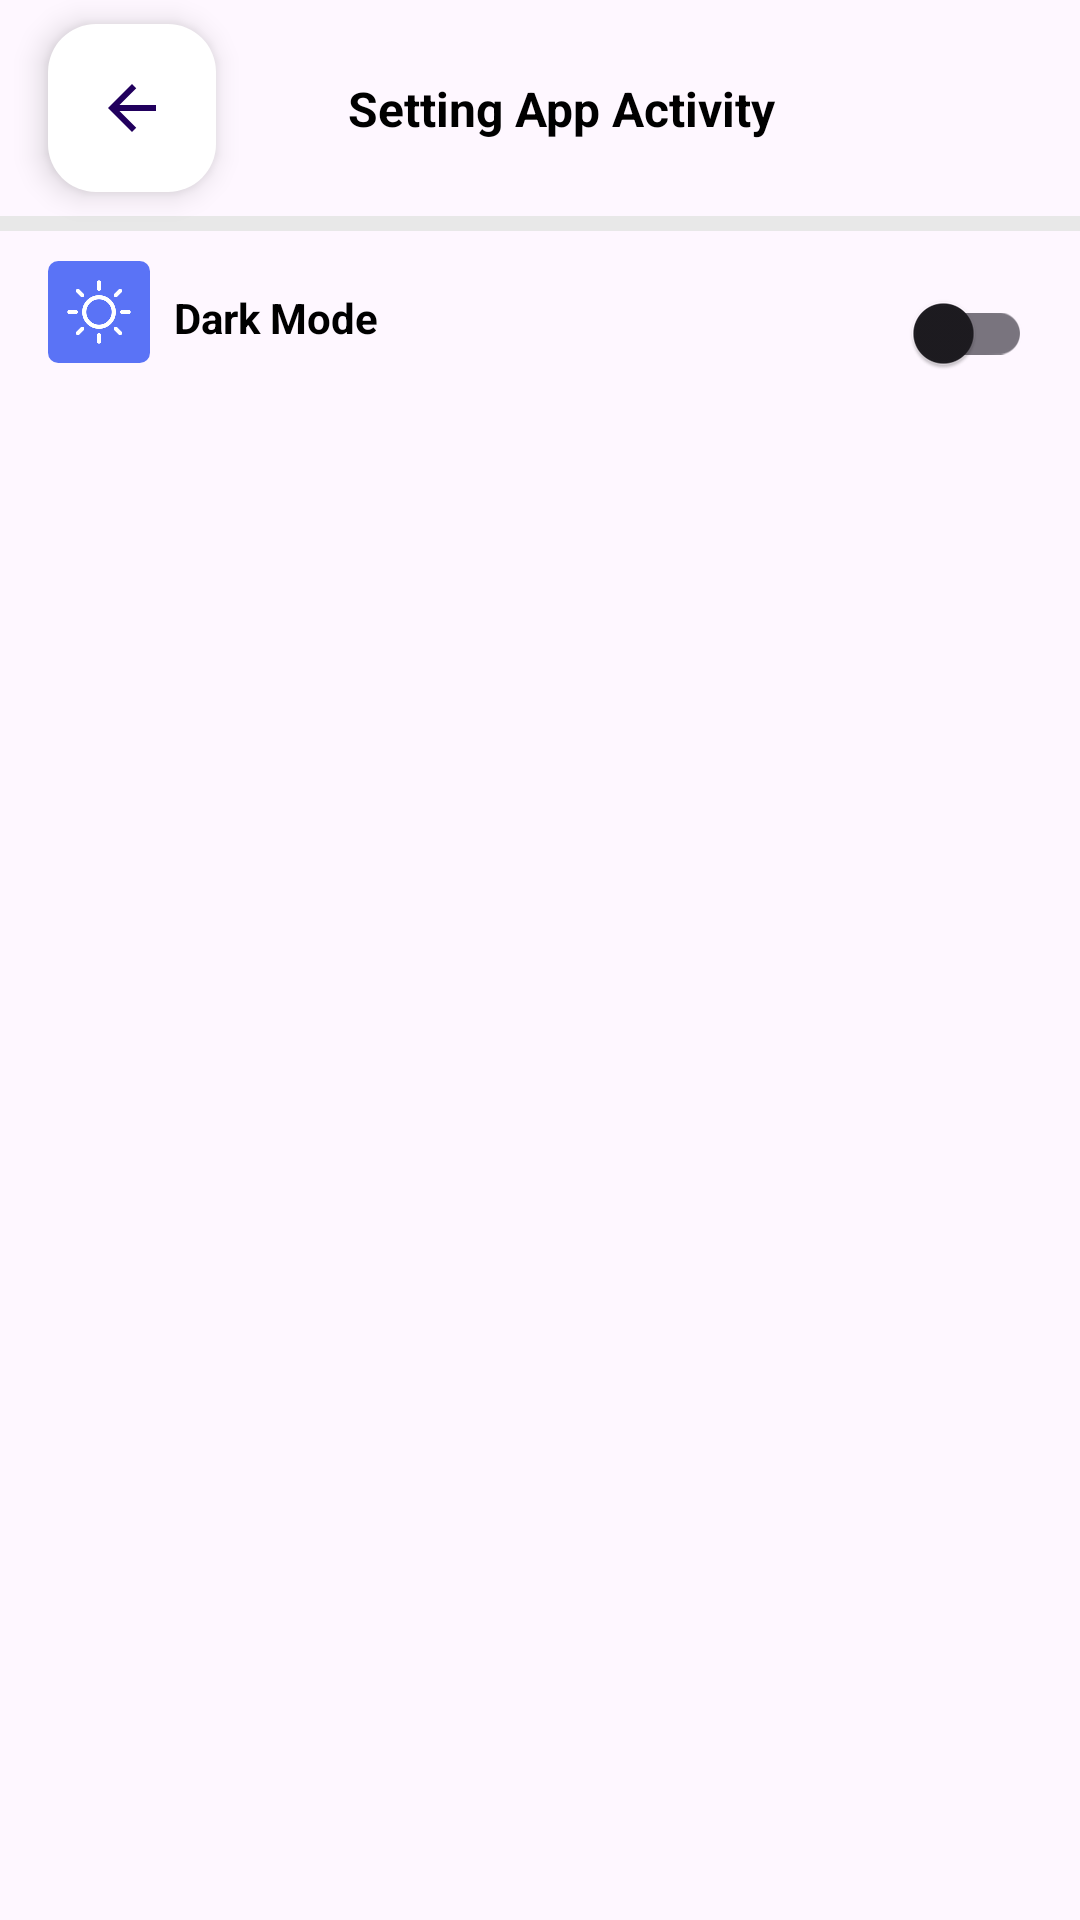

Named icons in this screenshot (1080x1920) and their centers, (x=x, y=y):
arrow back: (x=132, y=108)
setting theme: (x=99, y=312)
